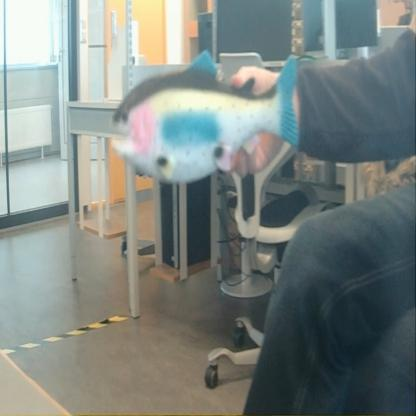rubberfish: (98, 43, 304, 187)
